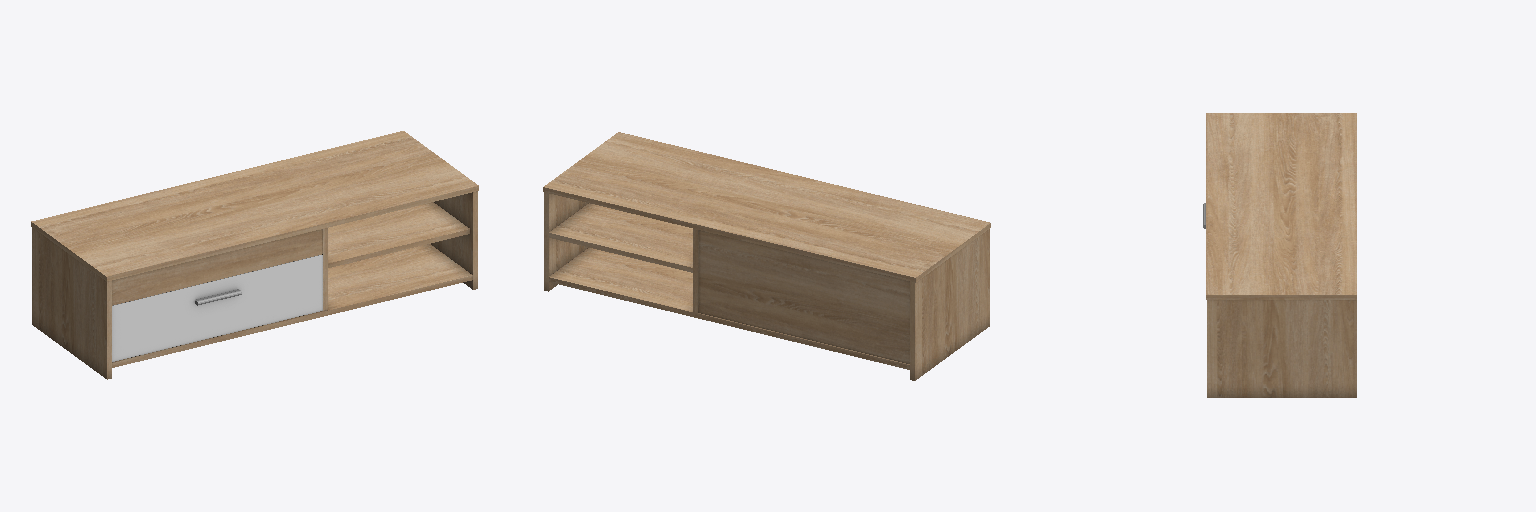
3 views of the same model, side by side, from view 1: azimuth 30°, elevation 25°; view 2: azimuth 150°, elevation 25°; view 3: azimuth 270°, elevation 25° (orthographic).
Visible parts, largest first — view 1: Meable_TV; view 2: Meable_TV; view 3: Meable_TV.
Boxes of the visible parts, box(x1,y1,x2,y2) form: Meable_TV: box(31, 131, 478, 379); Meable_TV: box(543, 132, 990, 380); Meable_TV: box(1203, 113, 1356, 397).
Size of the model in its own units: 120 by 31.8 by 42.99.
3 materials, 3 textured.